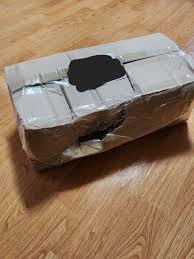damaged package: (44, 103, 136, 169), (18, 65, 77, 98), (144, 80, 191, 112)
